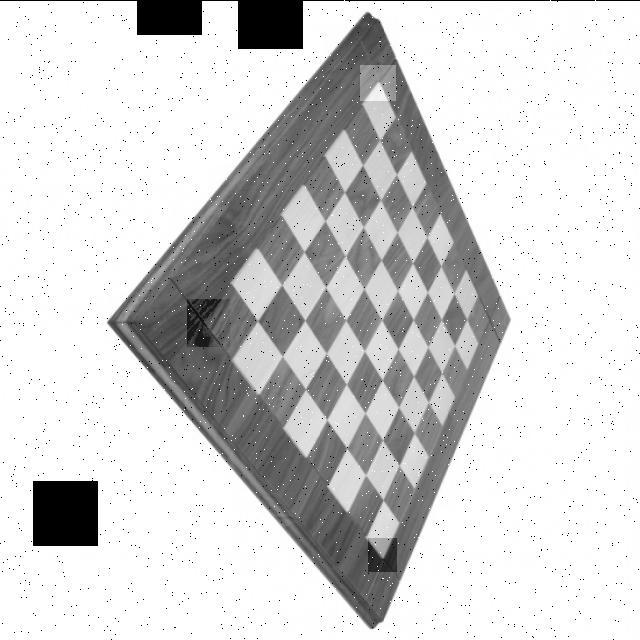chess-table-corners: (187, 298, 230, 346), (360, 64, 396, 100), (368, 537, 397, 571), (474, 307, 497, 330)
